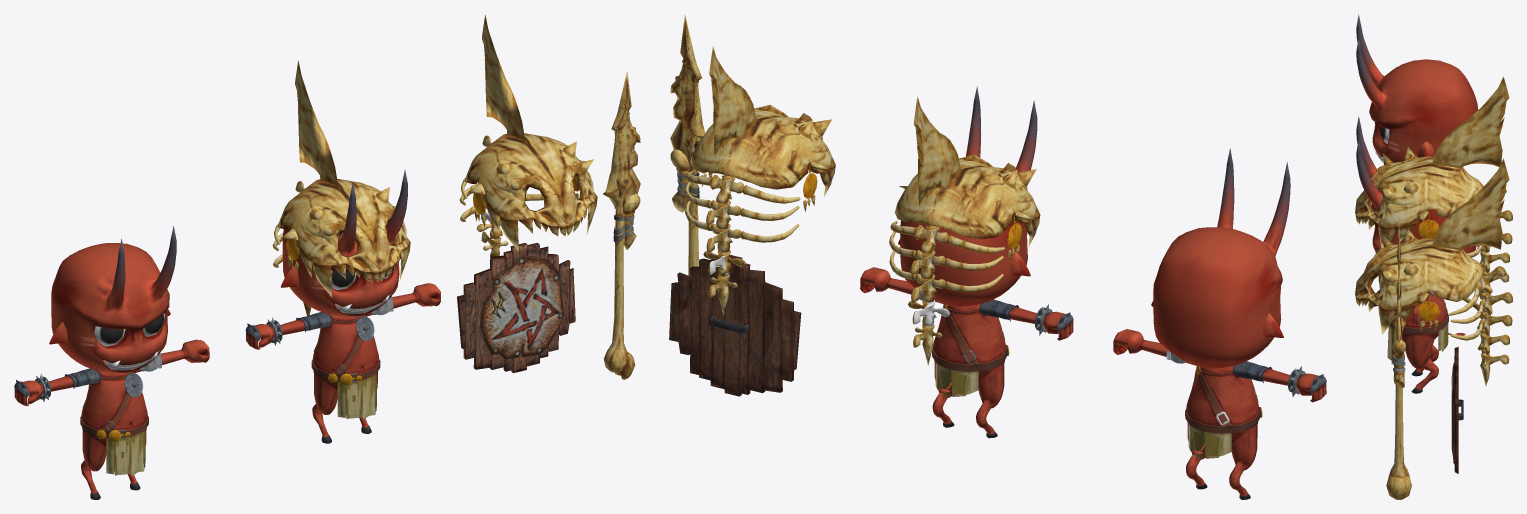
The model's file is imp.fbx.
3 renders of one model, left to right at view 1: azimuth 30°, elevation 25°; view 2: azimuth 150°, elevation 25°; view 3: azimuth 270°, elevation 25°, orthographic. The views are drawn at different scales.
Visible parts, largest first — view 1: _group1__pCube2__polySurface2, _pCube14, _group1__pCube11__polySurface1, _pCube4, _pSphere5_group2, group2__pSphere6, _group1__pCube2__polySurface1, _group1__pCylinder14__polySurface1, _group1__pCube10__polySurface1, eyes_pSphere1_eyes_polySurface2_polySurface1, _pCube14_1; view 2: _group1__pCube2__polySurface2, _pCube14, _pCube4, _group1__pCube11__polySurface1, group2__pSphere6, _pSphere5_group2, _group1__pCube2__polySurface1, _group1__pCube10__polySurface1, _group1__pCylinder14__polySurface1, _pCube14_1, _pCube4_1; view 3: _pCube14, _pCube4, _group1__pCube2__polySurface2, _pSphere5_group2, _group1__pCylinder14__polySurface1, _group1__pCube2__polySurface1, _group1__pCube11__polySurface1, _pCube14_1, _group1__pCube10__polySurface1, _pCube4_1, wrong_modelPanel1ViewSelectedSet_wrong_pCube6__pCube14, wrong_modelPanel1ViewSelectedSet_wrong_pCube6__pCube4.
Part boxes in pixels (bbox=[...]): _group1__pCube2__polySurface2: bbox=[49, 226, 176, 373]; _pCube14: bbox=[459, 15, 597, 251]; _group1__pCube11__polySurface1: bbox=[457, 242, 575, 372]; _pCube4: bbox=[272, 60, 410, 297]; _pSphere5_group2: bbox=[245, 283, 440, 443]; group2__pSphere6: bbox=[14, 339, 209, 499]; _group1__pCube2__polySurface1: bbox=[280, 169, 407, 316]; _group1__pCylinder14__polySurface1: bbox=[604, 179, 640, 379]; _group1__pCube10__polySurface1: bbox=[603, 71, 640, 208]; eyes_pSphere1_eyes_polySurface2_polySurface1: bbox=[93, 313, 165, 346]; _pCube14_1: bbox=[473, 178, 579, 256]; _group1__pCube2__polySurface2: bbox=[1151, 148, 1290, 368]; _pCube14: bbox=[684, 46, 835, 252]; _pCube4: bbox=[889, 95, 1040, 302]; _group1__pCube11__polySurface1: bbox=[669, 254, 801, 396]; group2__pSphere6: bbox=[1113, 329, 1326, 499]; _pSphere5_group2: bbox=[860, 267, 1073, 438]; _group1__pCube2__polySurface1: bbox=[898, 86, 1037, 306]; _group1__pCube10__polySurface1: bbox=[670, 15, 705, 164]; _group1__pCylinder14__polySurface1: bbox=[670, 133, 699, 342]; _pCube14_1: bbox=[701, 166, 817, 315]; _pCube4_1: bbox=[913, 216, 1021, 365]; _pCube14: bbox=[1355, 158, 1512, 340]; _pCube4: bbox=[1355, 76, 1512, 257]; _group1__pCube2__polySurface2: bbox=[1356, 14, 1478, 162]; _pSphere5_group2: bbox=[1387, 291, 1465, 393]; _group1__pCylinder14__polySurface1: bbox=[1386, 315, 1411, 499]; _group1__pCube2__polySurface1: bbox=[1356, 116, 1476, 253]; _group1__pCube11__polySurface1: bbox=[1451, 346, 1463, 473]; _pCube14_1: bbox=[1418, 295, 1509, 385]; _group1__pCube10__polySurface1: bbox=[1396, 226, 1402, 343]; _pCube4_1: bbox=[1418, 213, 1509, 285]; wrong_modelPanel1ViewSelectedSet_wrong_pCube6__pCube14: bbox=[1477, 328, 1509, 354]; wrong_modelPanel1ViewSelectedSet_wrong_pCube6__pCube4: bbox=[1480, 246, 1509, 272].
Size of the model in its own units: 259 by 139 by 64.66.
2 materials, 2 textured.
